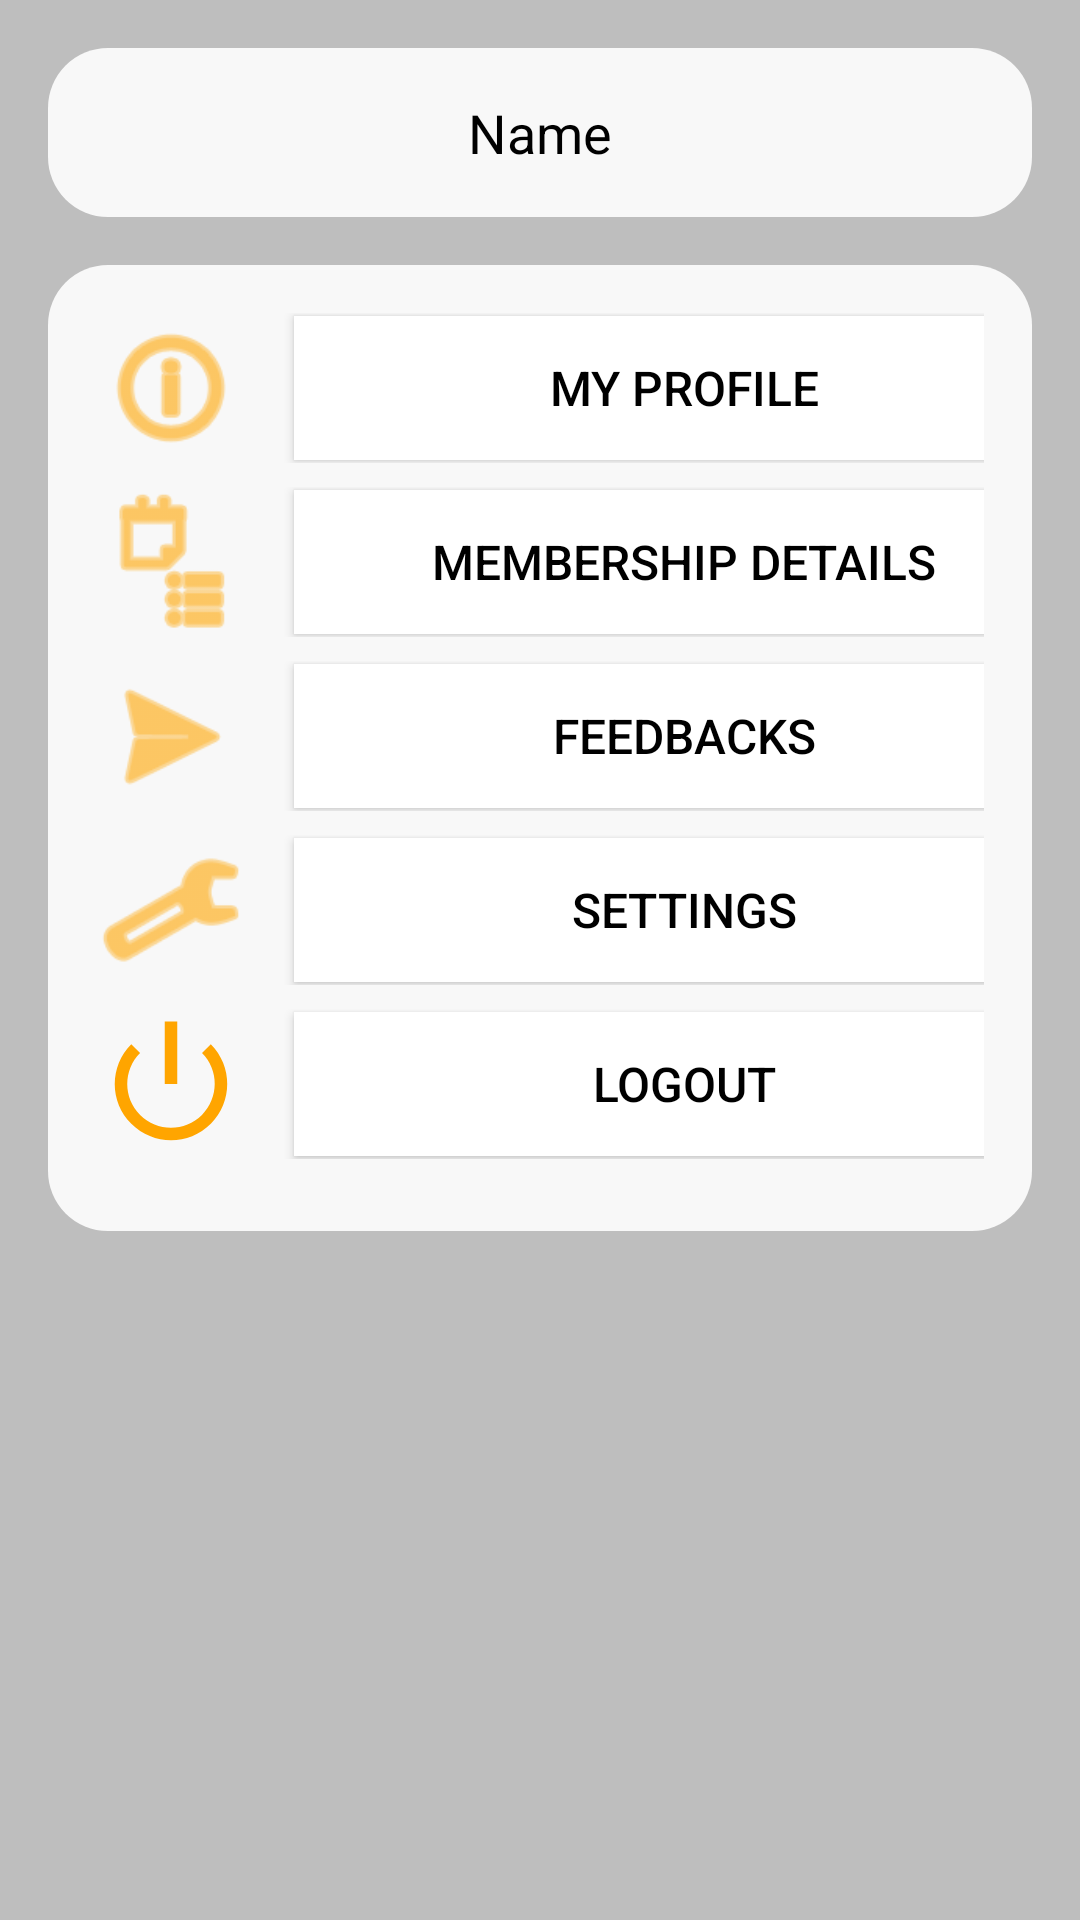

Icon bounding boxes for this 1080 × 1920 phone screenshot, format box(x1, y1, x2, y2):
agenda: box(119, 494, 225, 628)
info details: box(117, 334, 225, 442)
lock power off: box(114, 1021, 228, 1141)
manage: box(103, 858, 239, 962)
send: box(124, 689, 220, 784)
